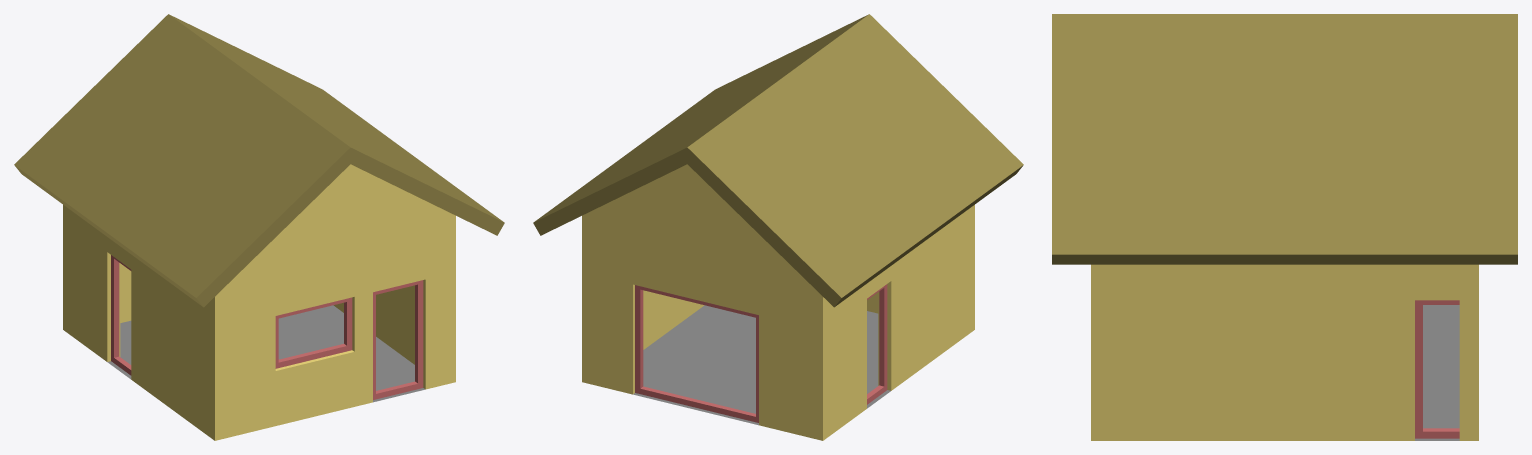
Rendered from result.glb.
3 renders of one model, left to right at view 1: azimuth 30°, elevation 25°; view 2: azimuth 150°, elevation 25°; view 3: azimuth 270°, elevation 25°, orthographic. The views are drawn at different scales.
Visible parts, largest first — view 1: 6af80192-8ae2-467a-8bde-617f02f1c524__undefined (×2), dde2fbaf-1180-4a35-b871-02900dd899ef__undefined, ea4f5105-edce-47eb-b3e4-744653426e8e__Plane_6, 44a8f367-c924-49ed-a498-8e11a67d619d__Box, fefb331a-7251-4346-a626-70dce0469297__Box_3, 41b71c5a-6b46-48d6-89f0-32367243e3fc__Box_12; view 2: 6af80192-8ae2-467a-8bde-617f02f1c524__undefined (×2), dde2fbaf-1180-4a35-b871-02900dd899ef__undefined, ea4f5105-edce-47eb-b3e4-744653426e8e__Plane_6, c836f5cb-42b4-4a65-8362-11a0d1fea880__Box_9, 41b71c5a-6b46-48d6-89f0-32367243e3fc__Box_12; view 3: 6af80192-8ae2-467a-8bde-617f02f1c524__undefined, dde2fbaf-1180-4a35-b871-02900dd899ef__undefined, ea4f5105-edce-47eb-b3e4-744653426e8e__Plane_6, 261420da-bf5f-4779-9e68-20478e41ea48__Box_15.
Boxes of the visible parts, x1=… form: 6af80192-8ae2-467a-8bde-617f02f1c524__undefined (×2): x1=14, y1=14, x2=504, y2=307; dde2fbaf-1180-4a35-b871-02900dd899ef__undefined: x1=63, y1=164, x2=455, y2=440; ea4f5105-edce-47eb-b3e4-744653426e8e__Plane_6: x1=107, y1=305, x2=425, y2=402; 44a8f367-c924-49ed-a498-8e11a67d619d__Box: x1=373, y1=280, x2=423, y2=399; fefb331a-7251-4346-a626-70dce0469297__Box_3: x1=275, y1=297, x2=352, y2=368; 41b71c5a-6b46-48d6-89f0-32367243e3fc__Box_12: x1=111, y1=255, x2=131, y2=375; 6af80192-8ae2-467a-8bde-617f02f1c524__undefined (×2): x1=533, y1=14, x2=1023, y2=307; dde2fbaf-1180-4a35-b871-02900dd899ef__undefined: x1=582, y1=164, x2=974, y2=440; ea4f5105-edce-47eb-b3e4-744653426e8e__Plane_6: x1=633, y1=305, x2=890, y2=425; c836f5cb-42b4-4a65-8362-11a0d1fea880__Box_9: x1=635, y1=285, x2=758, y2=422; 41b71c5a-6b46-48d6-89f0-32367243e3fc__Box_12: x1=867, y1=284, x2=887, y2=404; 6af80192-8ae2-467a-8bde-617f02f1c524__undefined: x1=1052, y1=14, x2=1517, y2=264; dde2fbaf-1180-4a35-b871-02900dd899ef__undefined: x1=1091, y1=264, x2=1478, y2=440; ea4f5105-edce-47eb-b3e4-744653426e8e__Plane_6: x1=1415, y1=305, x2=1459, y2=440; 261420da-bf5f-4779-9e68-20478e41ea48__Box_15: x1=1415, y1=300, x2=1459, y2=438.
Bounding box in the file's own units: 587 × 500 × 600.
